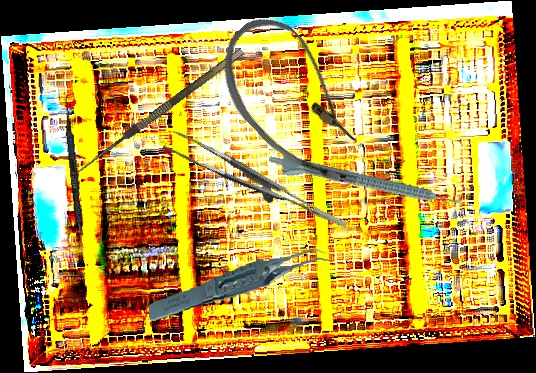Cannula: (197, 2, 394, 202)
Handpiece: (266, 152, 462, 217)
Hook Surgical: (69, 47, 252, 188)
Spatula Surgical: (59, 95, 90, 266)
Tissue Forceps: (162, 113, 349, 257), (144, 246, 338, 324)
